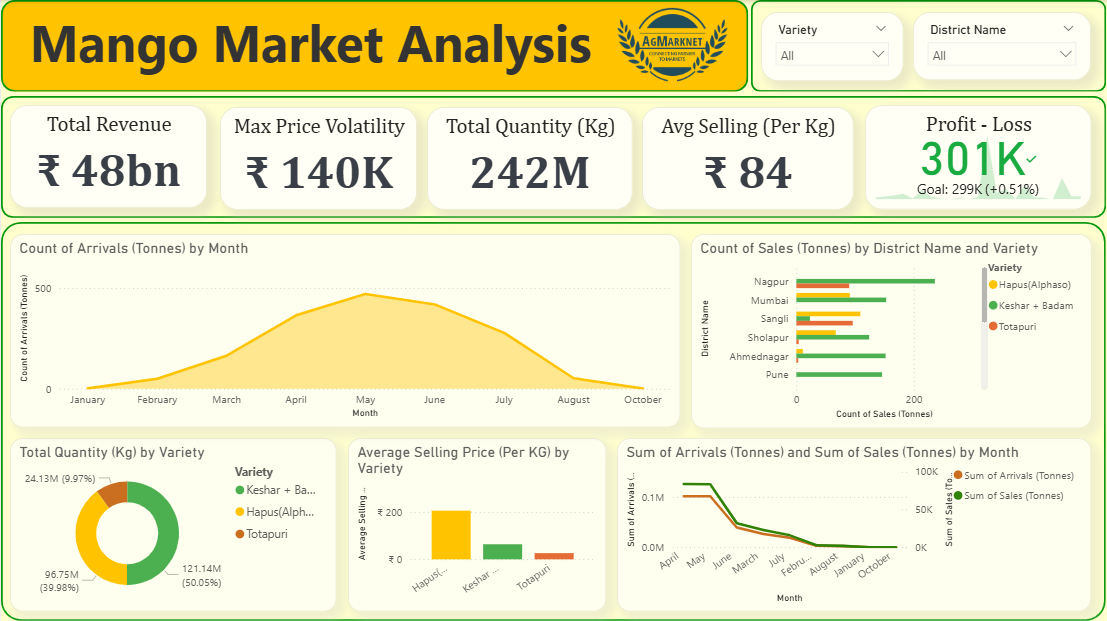

The dashboard page shown, as its layout file describes it:
{"tool":"powerbi","page":{"name":"Dashboard","canvas":[1280,720],"ordinal":0},"visuals":[{"type":"shape","box":[868.3,0,411.1,106.3],"z":0},{"type":"shape","box":[0,111.1,1279.4,141.3],"z":1000},{"type":"shape","box":[0,257.4,1278.7,461.7],"z":2000},{"type":"shape","box":[0,0,865.1,106.3],"z":3000},{"type":"textbox","box":[11.1,3.2,693.7,100],"z":4000},{"type":"card","title":"Total Revenue","fields":{"Values":["Sheet1.Total Revenue"]},"box":[10.6,121.3,227.7,119.1],"z":5000},{"type":"card","title":"Avg Selling (Per Kg)","fields":{"Values":["Sheet1.Average Selling Price (Per KG)"]},"box":[742.6,123.4,244.7,119.1],"z":6000},{"type":"card","title":"Max Price Volatility","fields":{"Values":["Sheet1.Max Price Volatility"]},"box":[253.2,123.4,227.7,119.1],"z":7000},{"type":"card","title":"Total Quantity (Kg)","fields":{"Values":["Sheet1.Total Quantity (Kg)"]},"box":[493.6,123.4,238.3,119.1],"z":8000},{"type":"donutChart","fields":{"Category":["Sheet1.Variety"],"Y":["Sheet1.Total Quantity (Kg)"]},"box":[10.1,507.2,378.3,201.4],"z":9000},{"type":"clusteredColumnChart","fields":{"Category":["Sheet1.Variety"],"Y":["Sheet1.Average Selling Price (Per KG)"]},"box":[401.4,507.2,298.6,201.4],"z":10000},{"type":"areaChart","fields":{"Category":["Sheet1.Reported Date.Variation.Date Hierarchy.Month"],"Y":["CountNonNull(Sheet1.Arrivals (Tonnes))"]},"box":[10.3,270.7,775.9,224.1],"z":11000},{"type":"clusteredBarChart","fields":{"Category":["Sheet1.District Name"],"Series":["Sheet1.Variety"],"Y":["CountNonNull(Sheet1.Sales (Tonnes))"]},"box":[798.6,271,463.8,224.6],"z":12000},{"type":"lineChart","fields":{"Category":["Sheet1.Month"],"Y":["Sum(Sheet1.Arrivals (Tonnes))"],"Y2":["Sum(Sheet1.Sales (Tonnes))"]},"box":[713,507.2,549.3,201.4],"z":13000},{"type":"kpi","title":"Profit - Loss","fields":{"Goal":["Sum(Sheet1.Modal Price (Rs./Quintal))"],"Indicator":["Sum(Sheet1.Selling Price (Rs./Quintal))"],"TrendLine":["Sheet1.Market Name"]},"box":[1000,121.3,261.7,121.3],"z":14000},{"type":"slicer","fields":{"Values":["Sheet1.Variety"]},"box":[879.8,13.6,165,80.3],"z":15000},{"type":"slicer","fields":{"Values":["Sheet1.District Name"]},"box":[1055.6,14.3,206.3,79.4],"z":16000},{"type":"image","box":[707.9,1.6,138.1,104.8],"z":17000}]}

Visuals, with their boxes in screenshot pixels (x1, y1, x2, y2), scaled from the page's 1280x720 canvas onto the 1107x621 screenshot:
shape: Rect(751, 0, 1106, 92)
shape: Rect(0, 96, 1106, 218)
shape: Rect(0, 222, 1106, 620)
shape: Rect(0, 0, 748, 92)
textbox: Rect(10, 3, 610, 89)
"Total Revenue" card: Rect(9, 105, 206, 207)
"Avg Selling (Per Kg)" card: Rect(642, 106, 854, 209)
"Max Price Volatility" card: Rect(219, 106, 416, 209)
"Total Quantity (Kg)" card: Rect(427, 106, 633, 209)
donutChart - Sheet1.Variety x Sheet1.Total Quantity (Kg): Rect(9, 437, 336, 611)
clusteredColumnChart - Sheet1.Variety x Sheet1.Average Selling Price (Per KG): Rect(347, 437, 605, 611)
areaChart - Sheet1.Reported Date.Variation.Date Hierarchy.Month x CountNonNull(Sheet1.Arrivals (Tonnes)): Rect(9, 233, 680, 427)
clusteredBarChart - Sheet1.District Name x Sheet1.Variety: Rect(691, 234, 1092, 427)
lineChart - Sheet1.Month x Sum(Sheet1.Arrivals (Tonnes)): Rect(617, 437, 1092, 611)
"Profit - Loss" kpi: Rect(865, 105, 1091, 209)
slicer - Sheet1.Variety: Rect(761, 12, 904, 81)
slicer - Sheet1.District Name: Rect(913, 12, 1091, 81)
image: Rect(612, 1, 732, 92)
